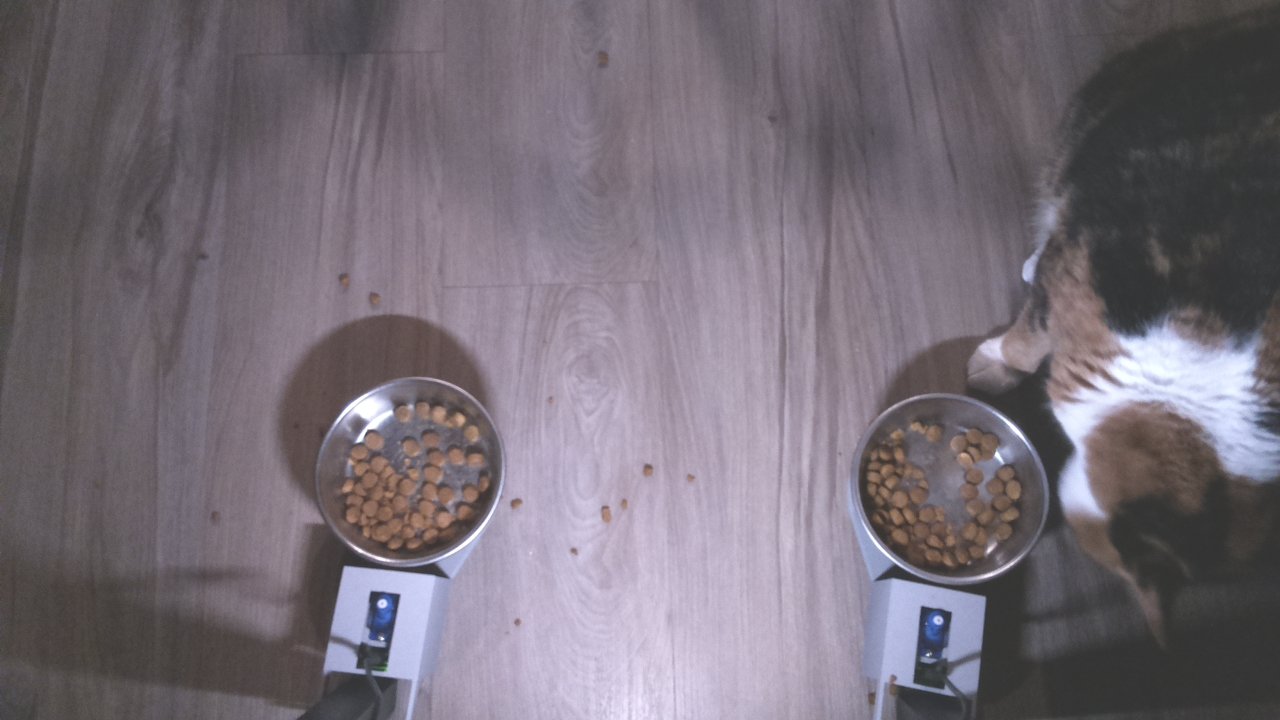bella: (1057, 398, 1280, 646)
open_bowl: (848, 391, 1052, 587), (312, 371, 506, 570)
